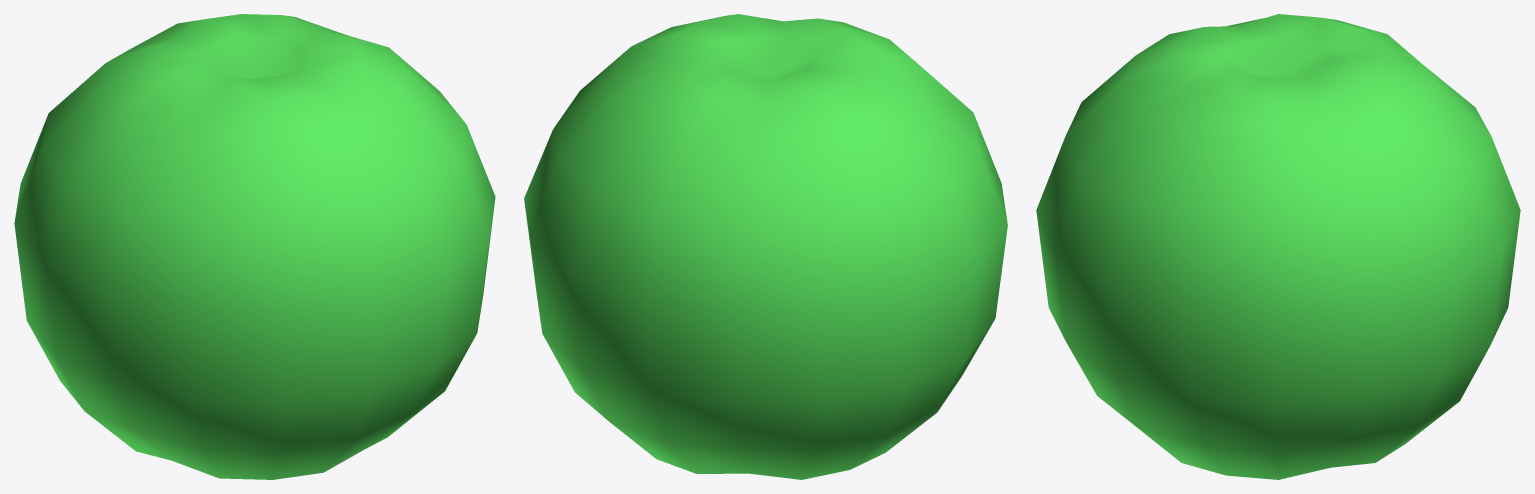
Rendered from SM_town_apple.fbx.
3 renders of one model, left to right at view 1: azimuth 30°, elevation 25°; view 2: azimuth 150°, elevation 25°; view 3: azimuth 270°, elevation 25°, orthographic.
Visible parts, largest first — view 1: apple_low; view 2: apple_low; view 3: apple_low.
Part boxes in pixels (<box>): apple_low: <box>14,14,495,479</box>; apple_low: <box>524,14,1007,479</box>; apple_low: <box>1036,14,1520,479</box>.
Bounding box in the file's own units: 10.98 × 9.68 × 10.98.
